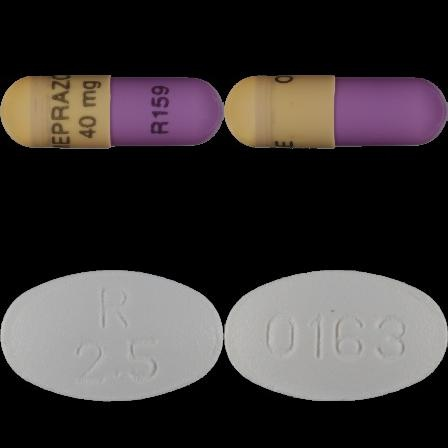55111-159: (0, 0, 224, 224)
